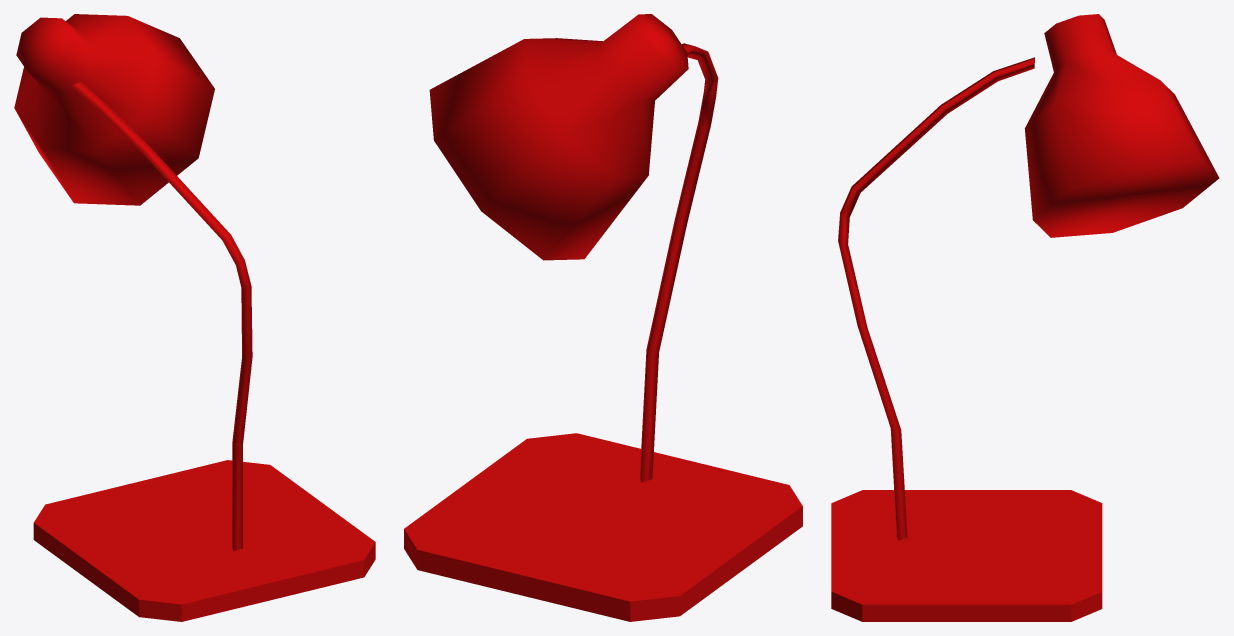
Rendered from UCX_lamp_desk.fbx.
3 views of the same model, side by side, from view 1: azimuth 30°, elevation 25°; view 2: azimuth 150°, elevation 25°; view 3: azimuth 270°, elevation 25° (orthographic). The views are drawn at different scales.
Visible parts, largest first — view 1: UCX_lamp_desk; view 2: UCX_lamp_desk; view 3: UCX_lamp_desk.
Boxes of the visible parts, x1,y1,x2,y2 form: UCX_lamp_desk: (14,14,375,621); UCX_lamp_desk: (404,14,802,621); UCX_lamp_desk: (831,14,1219,621).
Size of the model in its own units: 0.293 by 0.5883 by 0.408.
